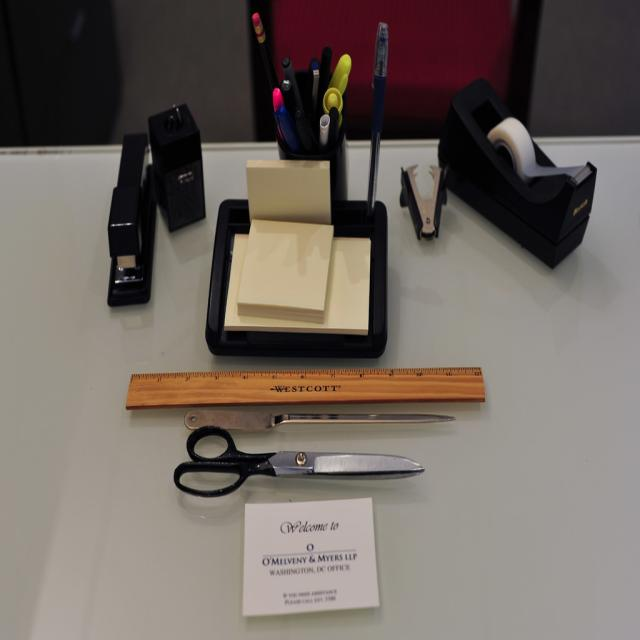scissors: (173, 424, 424, 497)
